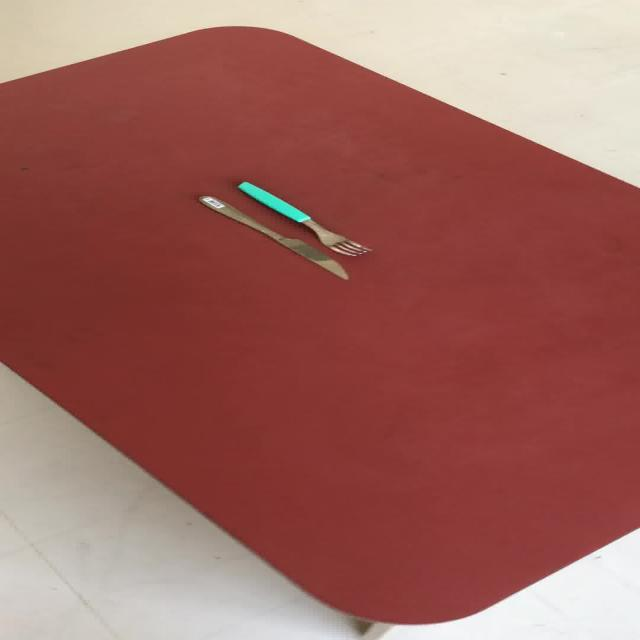fork: (235, 180, 372, 256)
knife fork: (195, 194, 349, 280)
